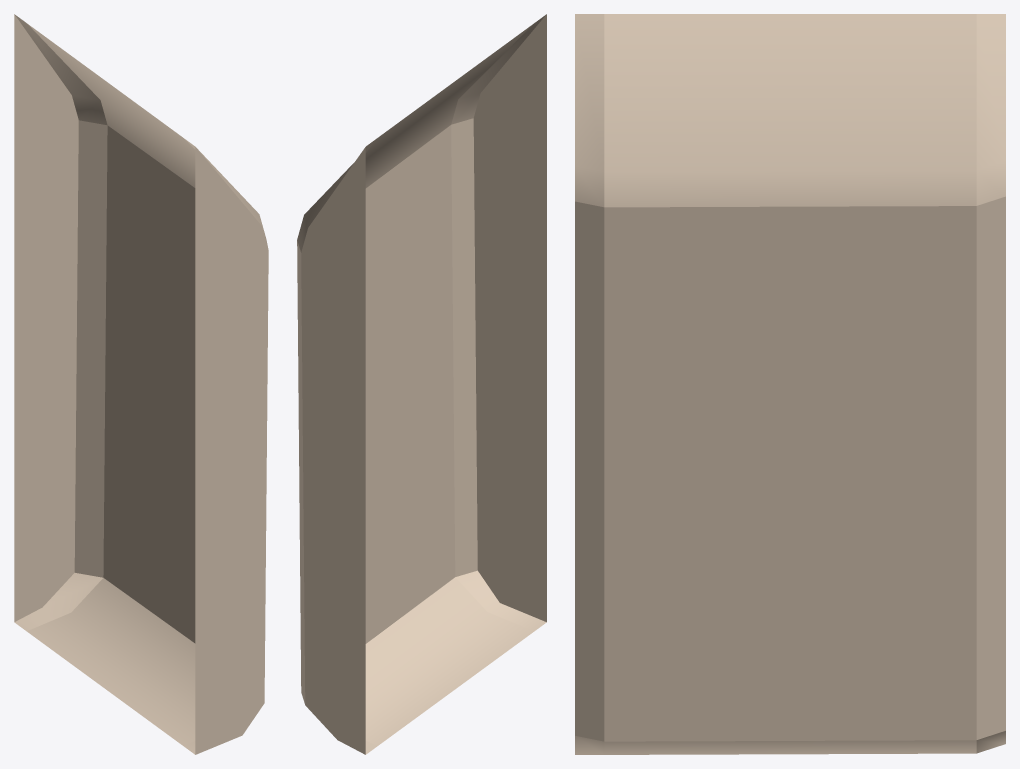
File: Module_Ss_wall_1X_B1.FBX
3 renders of one model, left to right at view 1: azimuth 30°, elevation 25°; view 2: azimuth 150°, elevation 25°; view 3: azimuth 270°, elevation 25°, orthographic. The views are drawn at different scales.
Parts seen in each view (by area): view 1: Module_Ss_wall_1X_B1; view 2: Module_Ss_wall_1X_B1; view 3: Module_Ss_wall_1X_B1.
Part boxes in pixels (x1,y1,x2,y2): Module_Ss_wall_1X_B1: (14,14,268,754); Module_Ss_wall_1X_B1: (297,14,546,754); Module_Ss_wall_1X_B1: (575,14,1005,754).
Bounding box in the file's own units: 5.64 × 39.37 × 21.26.
